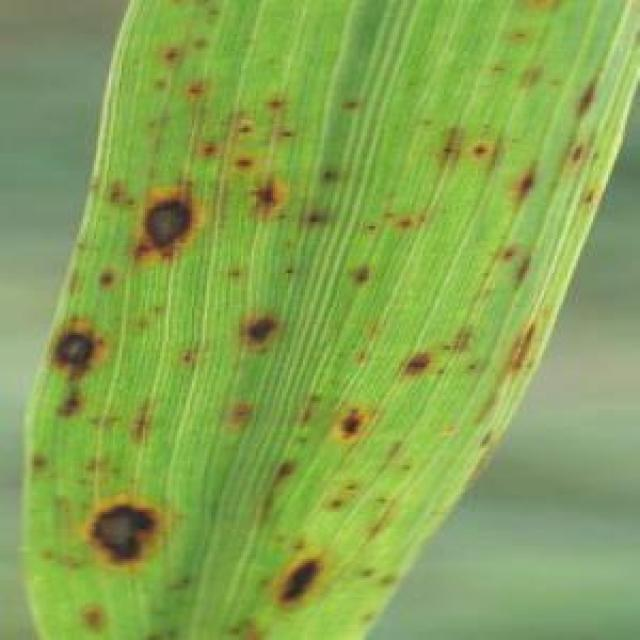Brown_Spot: (68, 495, 177, 572), (126, 170, 203, 264), (269, 542, 333, 614), (226, 300, 288, 362), (239, 162, 294, 222), (115, 386, 164, 448), (43, 322, 100, 373), (563, 62, 612, 121), (499, 151, 548, 205), (505, 309, 542, 378), (439, 312, 480, 361), (392, 341, 438, 384), (331, 399, 369, 446), (431, 121, 465, 172), (49, 384, 88, 422), (224, 388, 256, 431), (85, 260, 124, 294), (72, 598, 111, 632), (508, 248, 535, 292), (358, 508, 392, 542), (342, 258, 376, 290), (269, 452, 303, 484), (154, 38, 188, 70), (572, 177, 602, 211), (139, 68, 177, 94), (218, 258, 250, 288), (502, 19, 534, 47), (21, 444, 49, 476), (181, 70, 209, 102), (516, 58, 544, 90), (234, 610, 266, 638), (100, 177, 126, 211), (192, 135, 224, 162), (371, 565, 401, 593), (256, 90, 288, 115), (224, 151, 256, 175), (299, 203, 326, 230), (139, 619, 177, 638), (173, 344, 200, 369), (330, 92, 362, 113), (273, 258, 301, 282), (314, 160, 339, 186), (561, 137, 585, 164), (62, 264, 81, 298), (474, 427, 499, 452), (320, 493, 346, 516), (457, 354, 484, 376), (358, 215, 384, 237), (484, 55, 510, 77), (465, 137, 489, 160), (266, 124, 298, 141), (495, 239, 518, 262), (250, 570, 275, 591), (393, 211, 416, 233), (354, 606, 380, 625), (288, 429, 314, 448), (186, 30, 209, 51), (352, 561, 375, 582), (350, 343, 369, 367), (171, 568, 196, 586), (200, 0, 221, 21), (427, 363, 450, 382), (68, 234, 92, 252), (401, 70, 422, 90), (341, 476, 363, 495), (416, 111, 435, 132), (220, 619, 241, 638), (130, 314, 152, 332), (147, 298, 169, 316), (369, 488, 390, 506), (286, 534, 307, 552), (232, 118, 252, 136), (394, 458, 412, 476), (267, 527, 286, 544), (34, 544, 53, 561), (544, 72, 561, 90), (586, 145, 602, 164), (412, 211, 431, 226), (478, 115, 493, 132), (476, 262, 490, 280), (122, 194, 138, 209), (106, 463, 120, 476), (74, 474, 88, 486), (126, 474, 139, 486)
